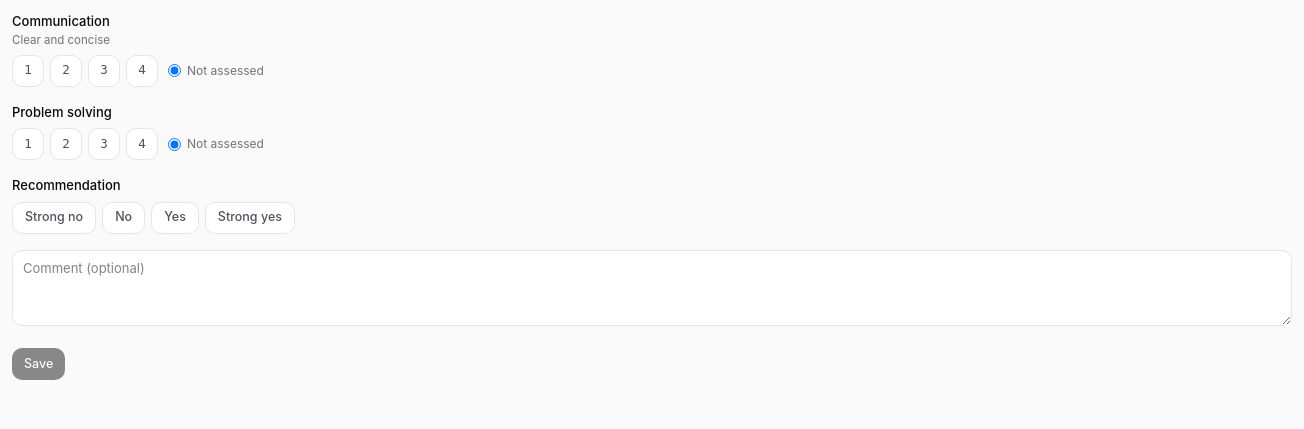
Test case: ScorecardForm › keeps the typed input and shows the error when submit fails
Click the button "Yes".
click(175, 218)  # box left=151, top=202, right=199, bottom=234
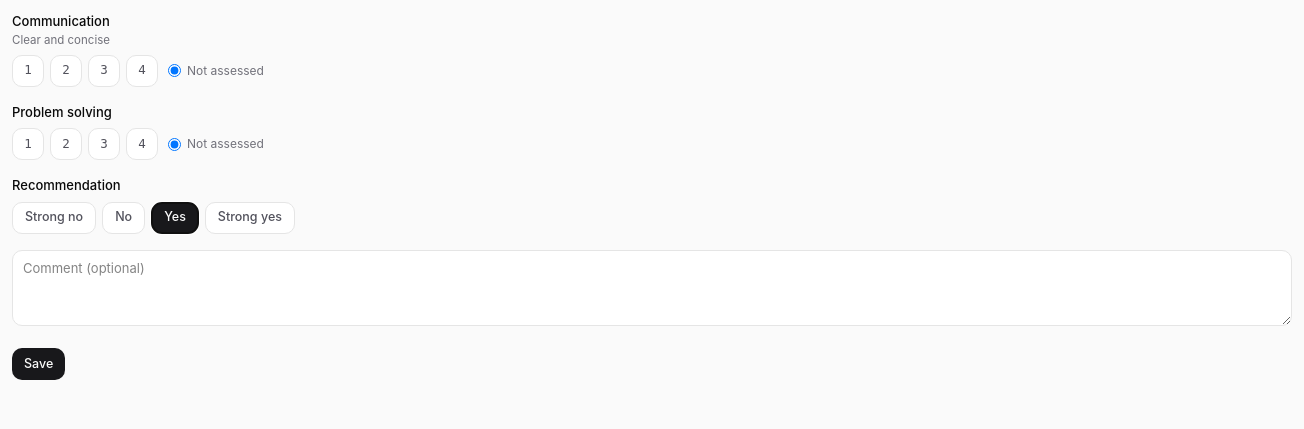
Type "keep me" into the text box labelled "Comment".
click(652, 288); type("keep me")  # box left=12, top=250, right=1292, bottom=326
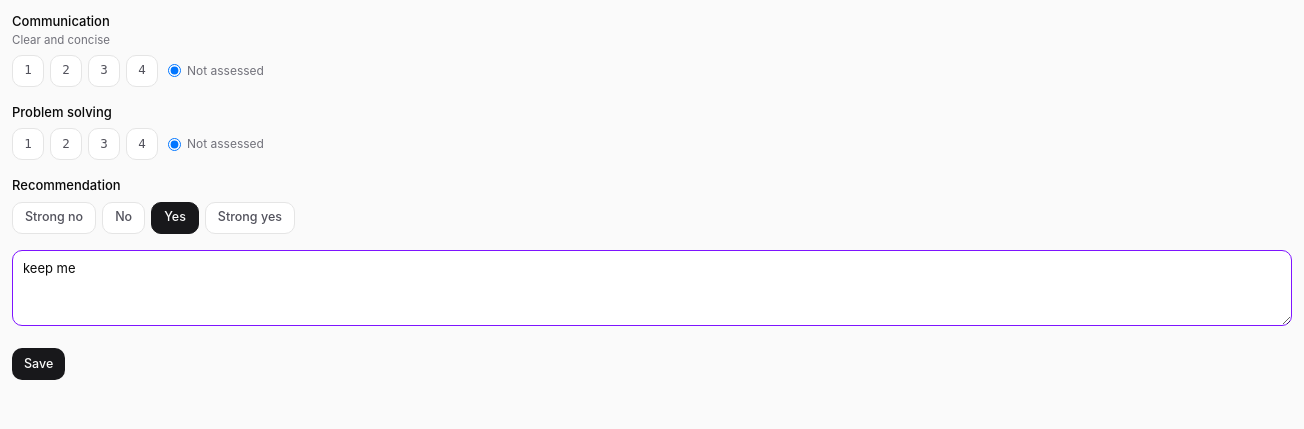
Click the button "Save".
click(39, 364)  # box left=12, top=348, right=65, bottom=380
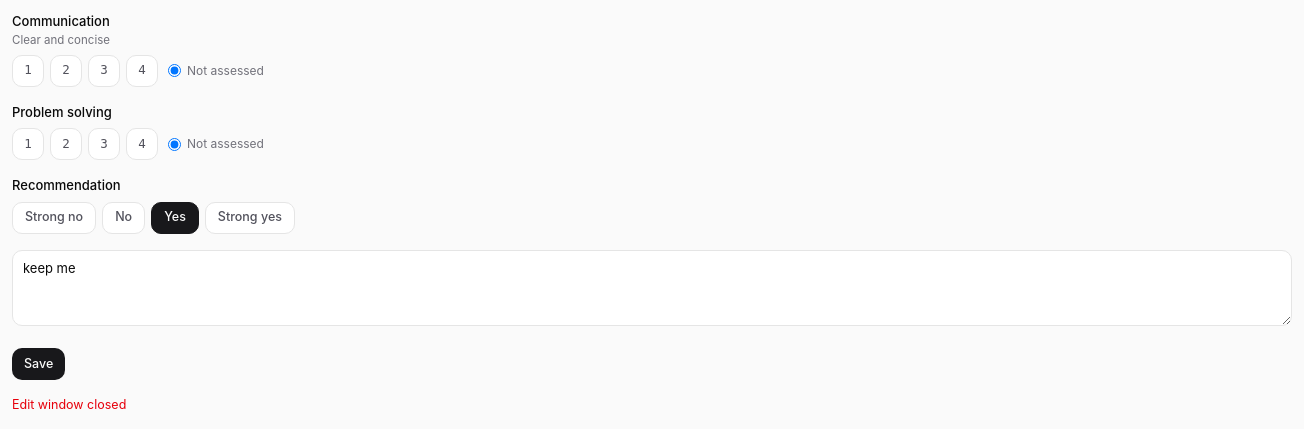
Expected: the message reads "Edit window closed", left=12, top=397, right=126, bottom=412
